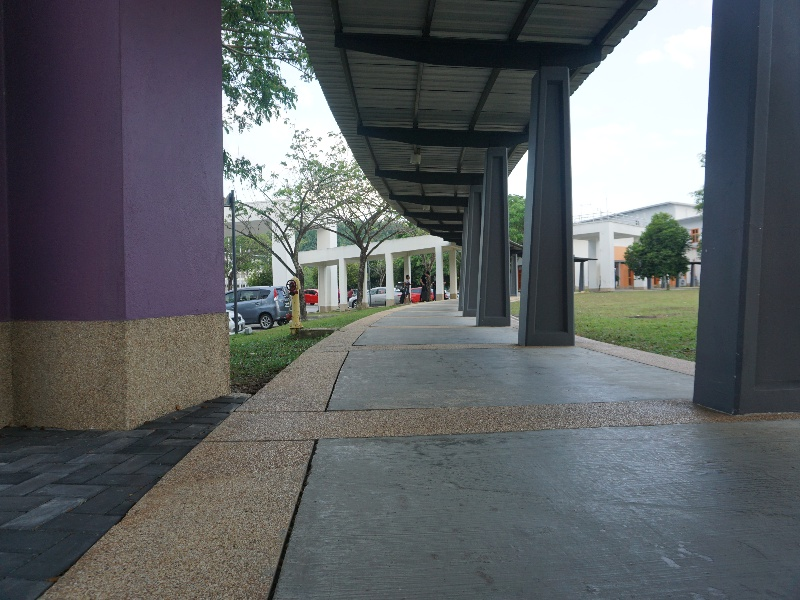Block D Pillar 7: (4, 8, 800, 501)
pillar: (12, 4, 216, 430), (700, 12, 799, 424), (526, 56, 578, 352), (479, 140, 518, 334)
